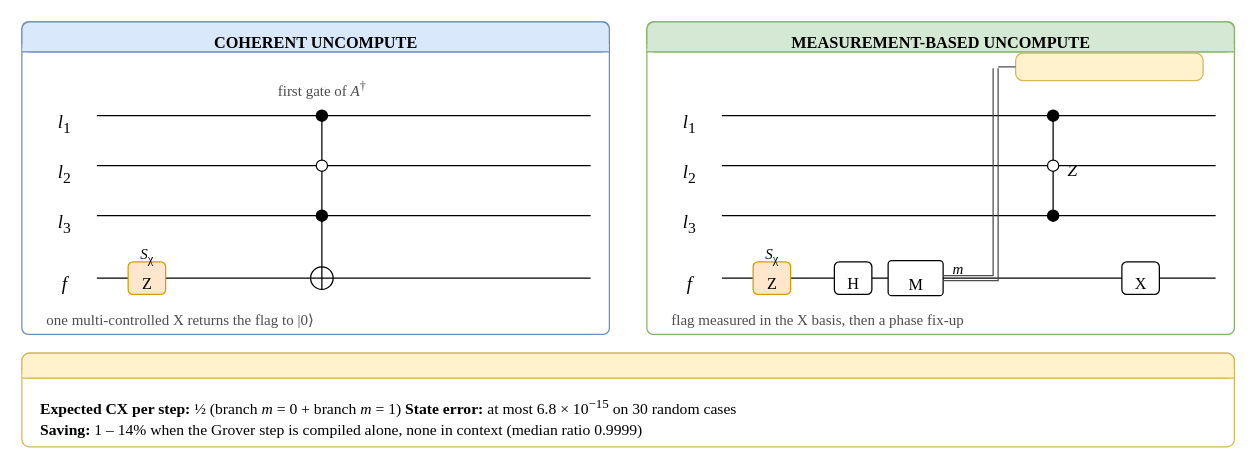
This 1258x469 diagram has some shape labels left out. The box of each missing label's shape, as (x1, y1, x2, y2) in pixels:
applied only if m = 1: (1014, 52, 1203, 81)
RESULT: (21, 352, 1234, 378)
